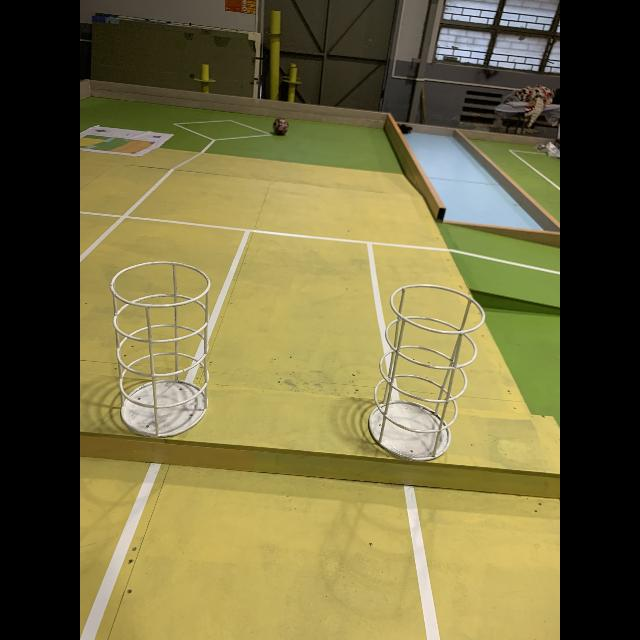S: (368, 284, 487, 462), (108, 262, 212, 440)
